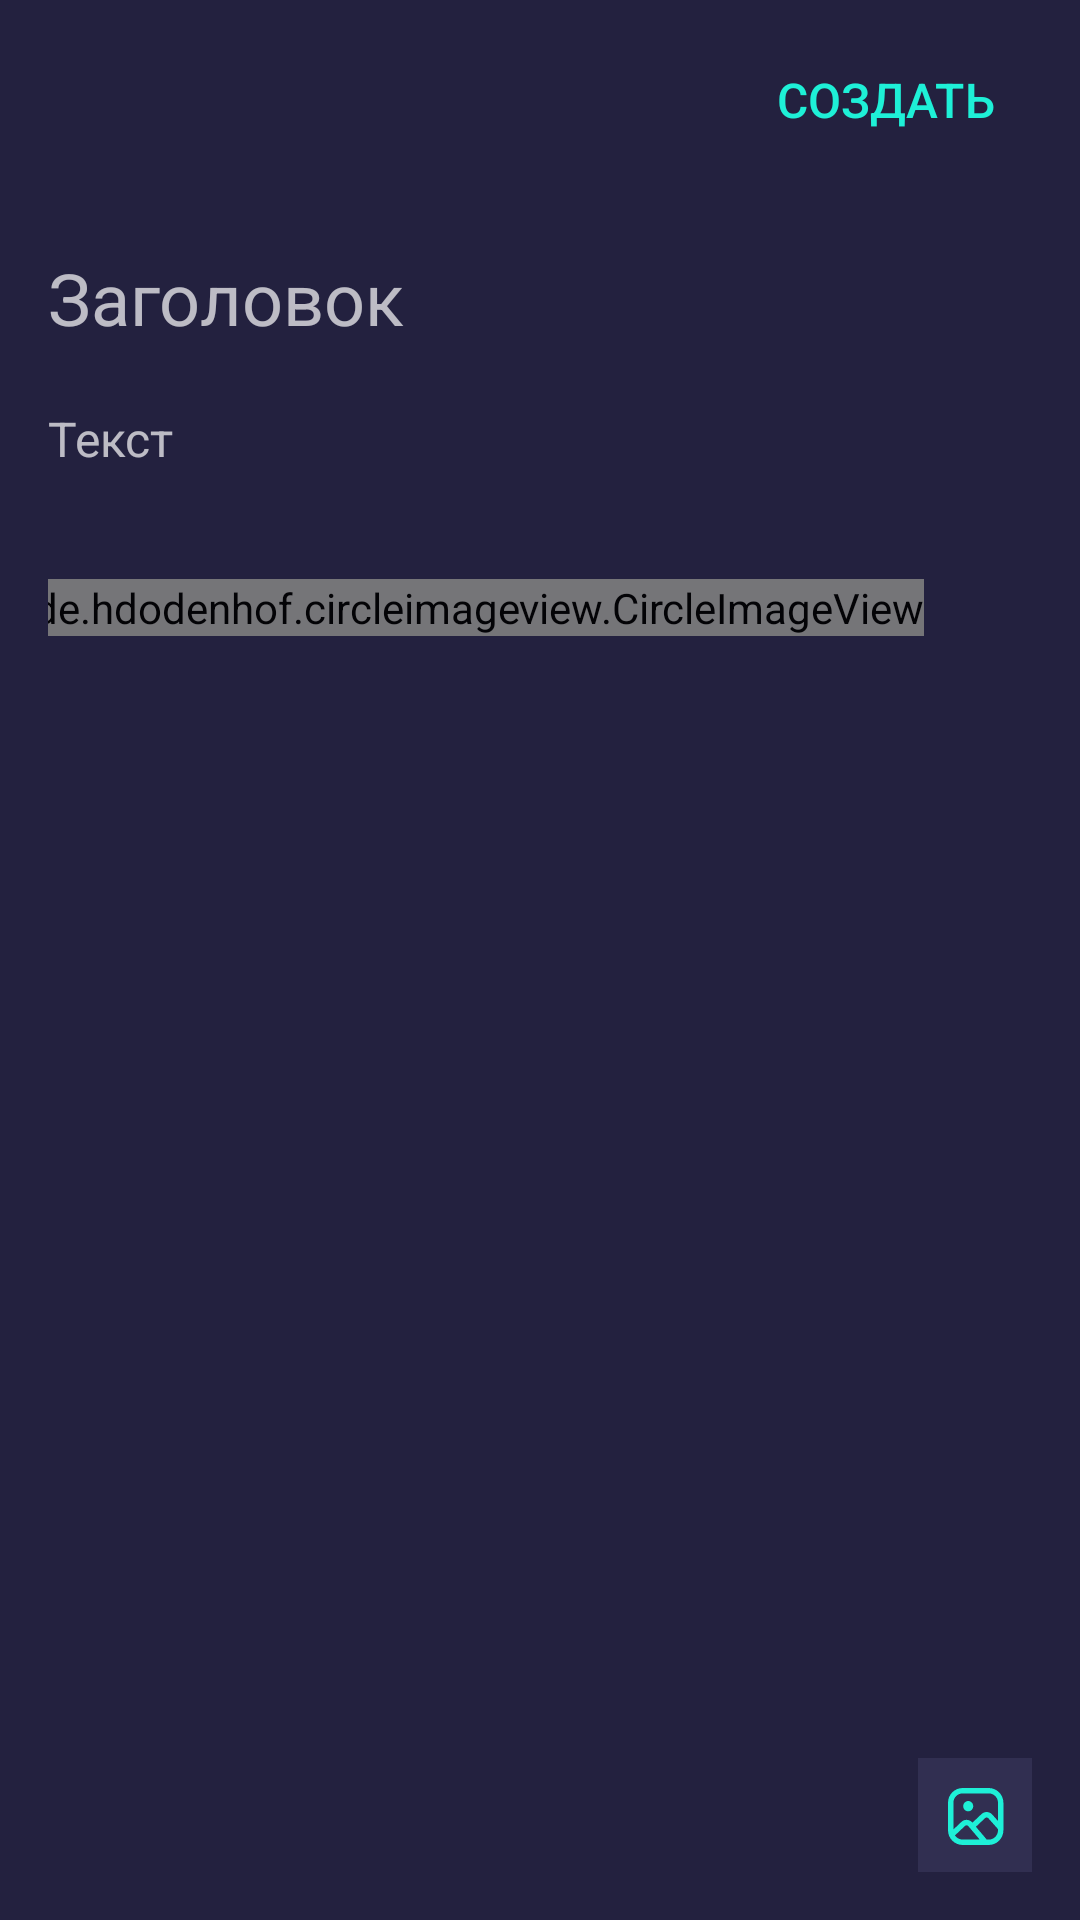

Named icons in this screenshot (1080*1920) and their centers, (x=x, y=y):
attach: (x=976, y=1816)
